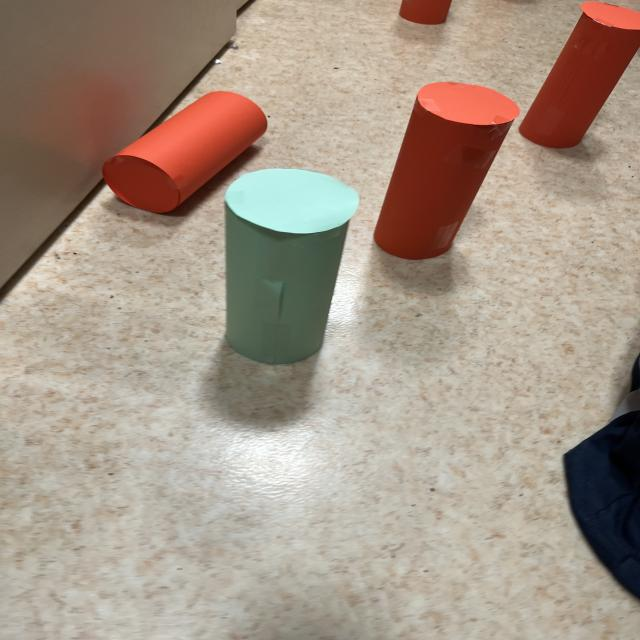meta: (225, 169, 359, 364)
przeszkoda: (374, 82, 519, 259), (103, 92, 267, 213), (519, 2, 640, 147)
